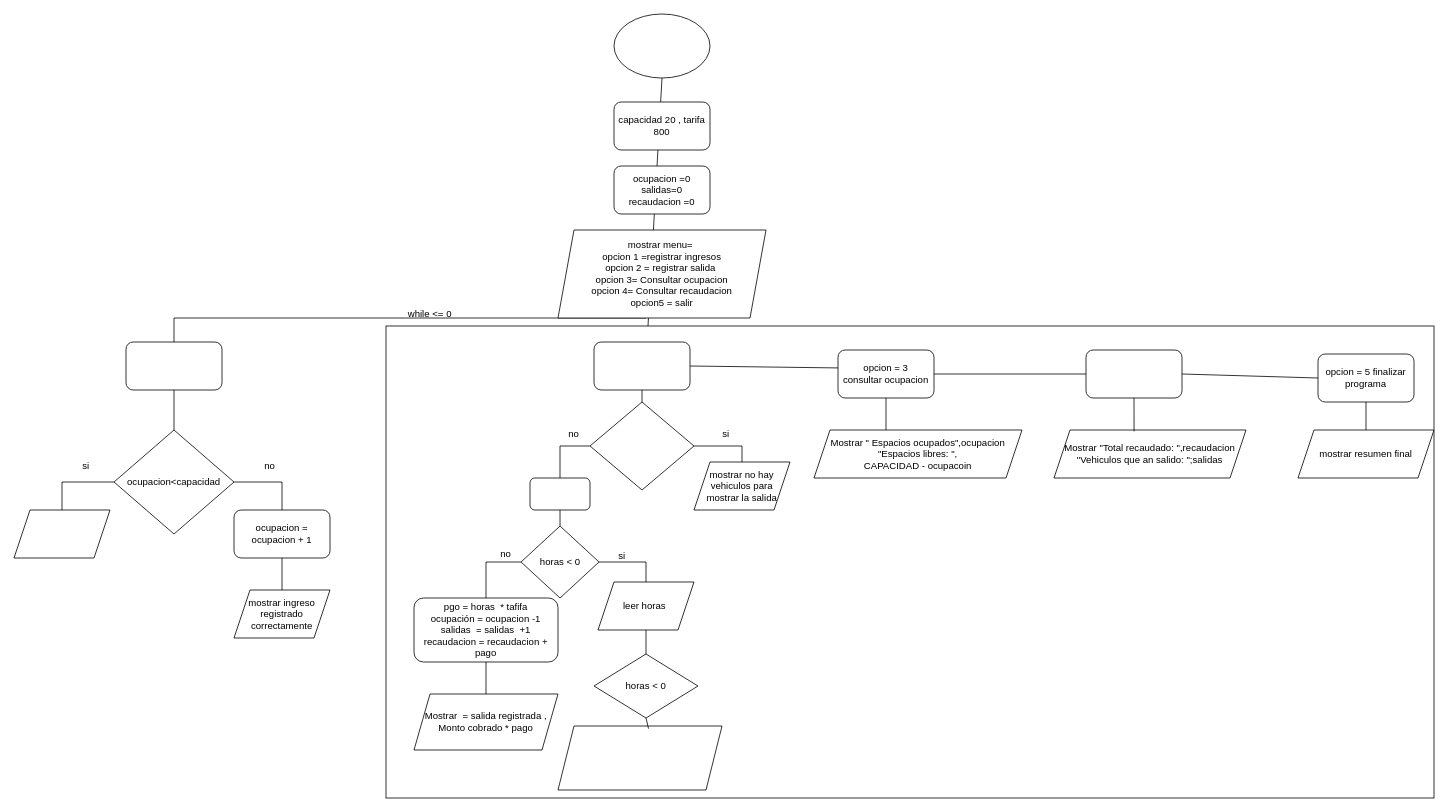
The diagram is 1448 pixels wide and 812 high, and some of its shapes have lost their labels. The shapes that lost their labels are listed below. From the top down, each one's box as (x1, y1, x2, y2) in pixels, then its label:
(613, 13, 710, 78): inicio
(125, 341, 222, 390): opcion = 1 registrar ingreso
(593, 341, 690, 390): opcion = 2 registrar salida
(1085, 349, 1182, 398): opcion = 4 Consultar recaudacion
(589, 401, 694, 490): ocupacion ==0
(529, 477, 590, 510): horas = 0
(13, 509, 110, 558): mostrar estacionamiento lleno
(557, 725, 722, 790): mostrar Error :las horas deben ser mayores que cero
